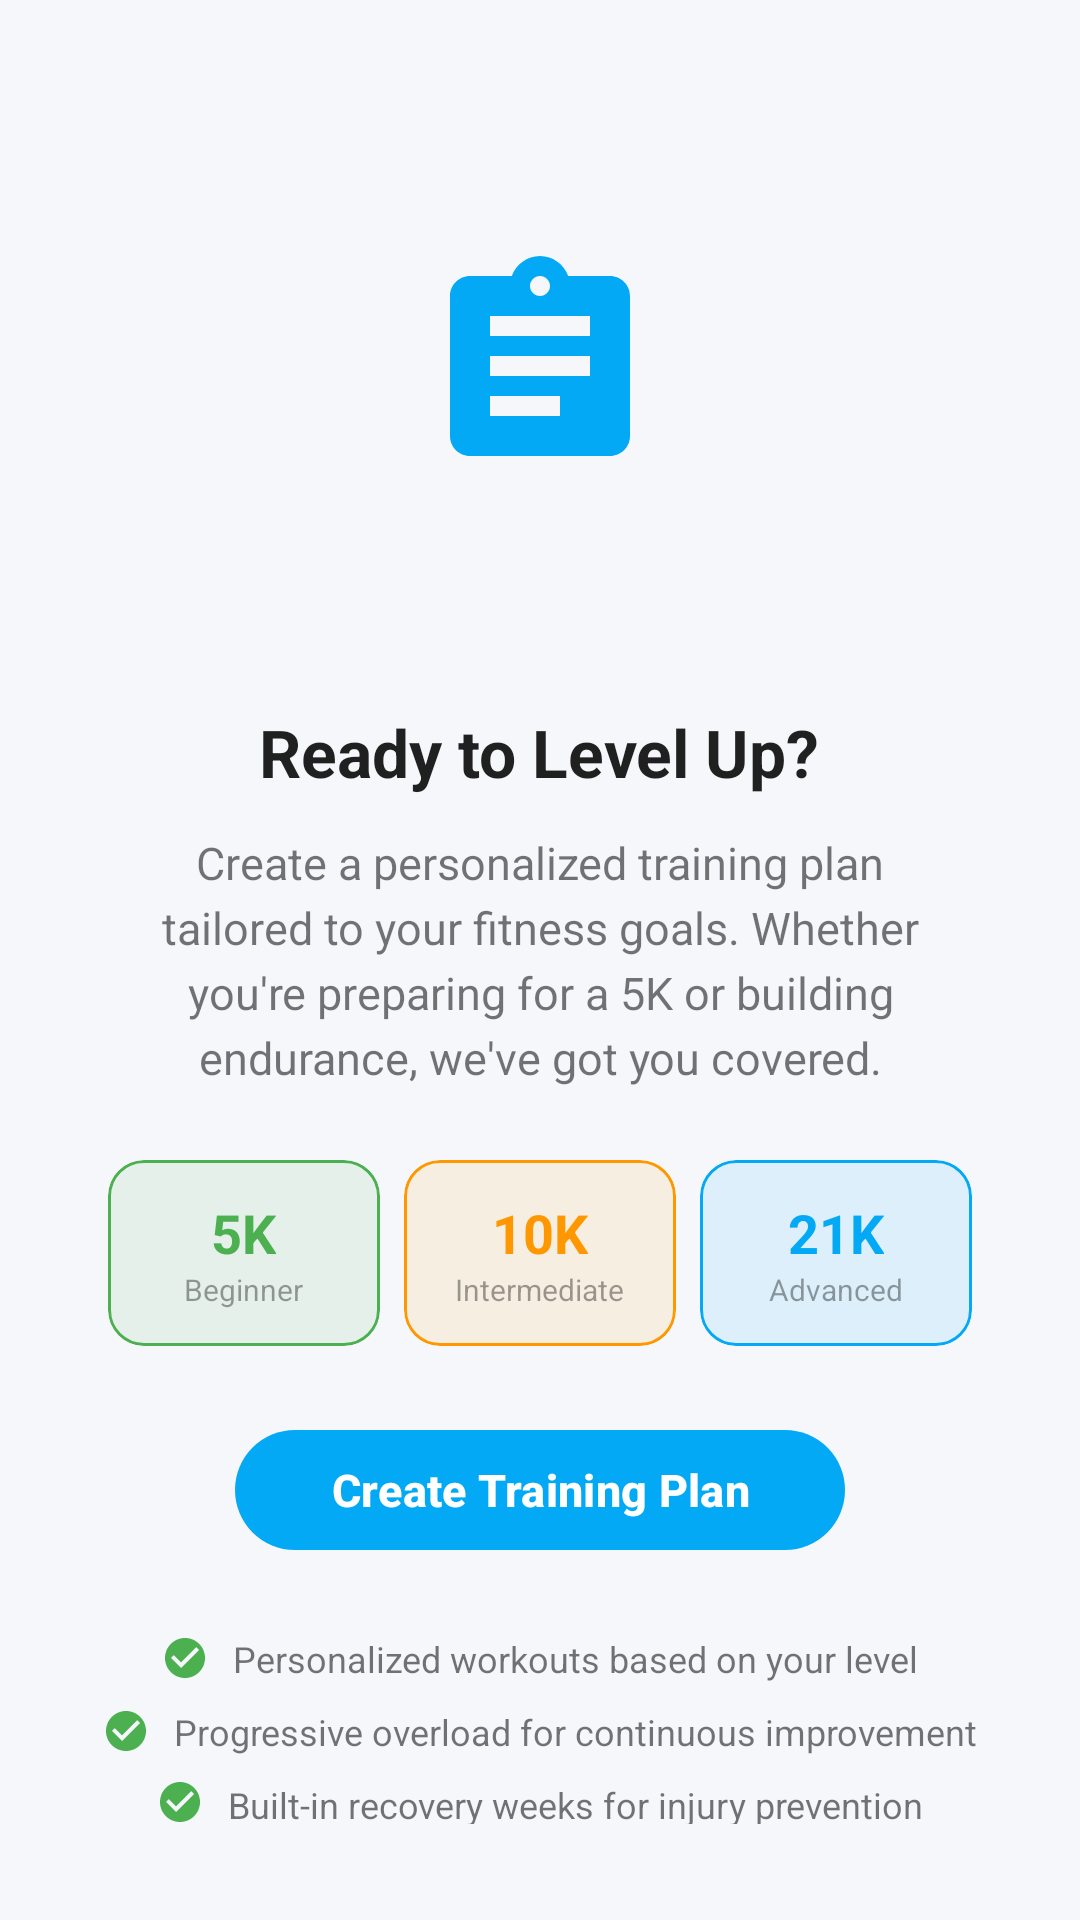

Point at icon controls on the screen. Image size 1080px×1920px, points as [x,y].
check circle: [185,1658], [126,1731], [180,1802]
